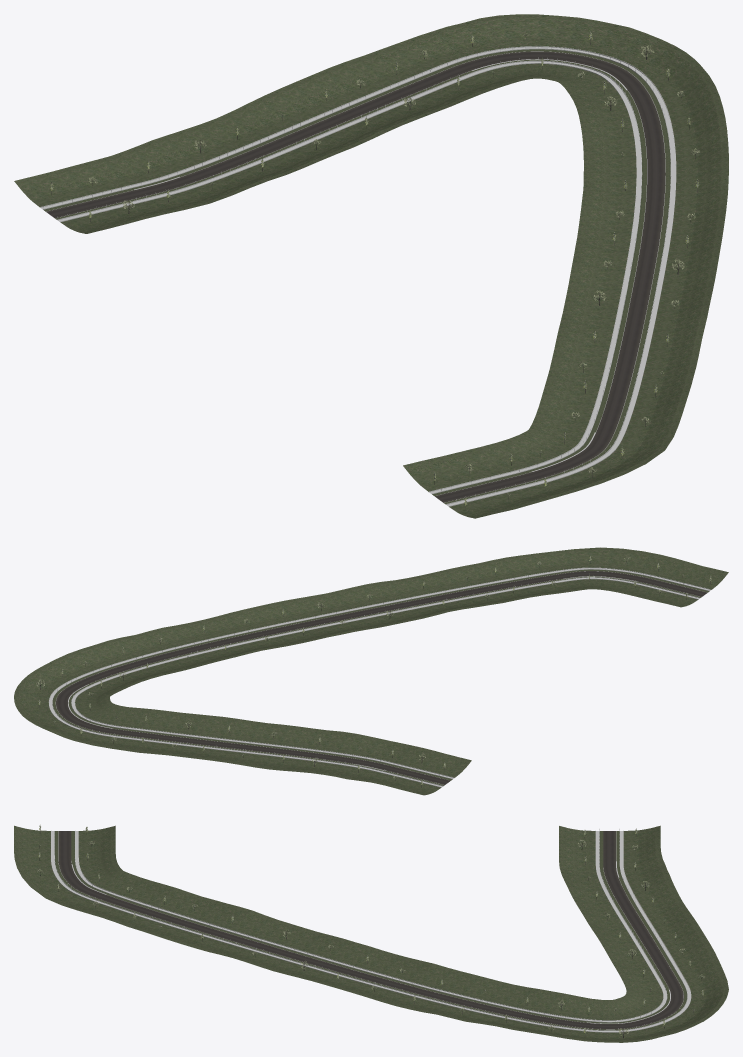
3 views of the same model, one above another, from view 1: azimuth 30°, elevation 25°; view 2: azimuth 150°, elevation 25°; view 3: azimuth 270°, elevation 25° (orthographic). The views are drawn at different scales.
Visible parts, largest first — view 1: Grass, Road, Track, Trees; view 2: Grass, Track, Road, Trees; view 3: Grass, Road, Track, Trees.
Boxes of the visible parts, x1,y1,x2,y2 form: Grass: (14,14,728,518); Road: (46,51,665,502); Track: (40,46,676,506); Trees: (50,31,699,509); Grass: (14,547,728,795); Track: (48,567,711,787); Road: (56,571,707,784); Trees: (36,556,711,787); Grass: (14,825,728,1042); Road: (58,831,683,1029); Track: (51,829,691,1032); Trees: (37,824,704,1038).
Size of the model in its own units: 70782 by 1948 by 98420.
